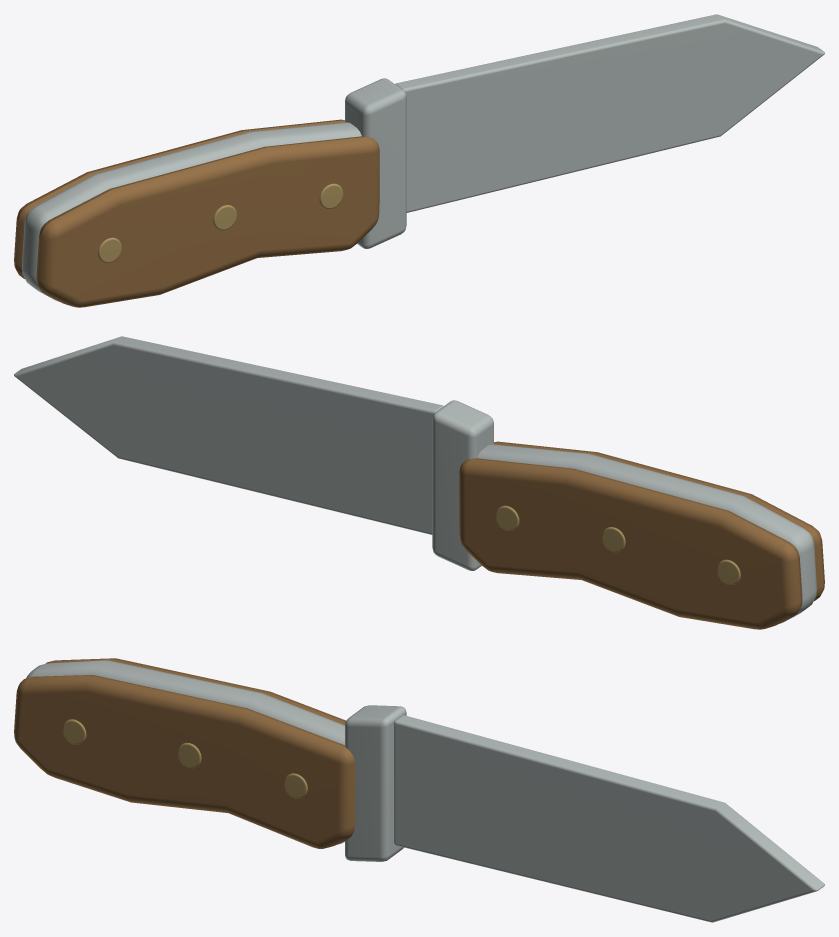
The model's file is steak.glb.
3 views of the same model, one above another, from view 1: azimuth 30°, elevation 25°; view 2: azimuth 150°, elevation 25°; view 3: azimuth 330°, elevation 25° (orthographic).
Parts seen in each view (by area): view 1: Tapered forged steak blade, Curved olivewood handle scale.001, Visible full steel tang, Steel bolster, Curved olivewood handle scale; view 2: Tapered forged steak blade, Curved olivewood handle scale, Visible full steel tang, Steel bolster, Curved olivewood handle scale.001; view 3: Tapered forged steak blade, Curved olivewood handle scale.001, Steel bolster, Visible full steel tang, Curved olivewood handle scale, Brass through rivet.
Boxes of the visible parts, x1=… form: Tapered forged steak blade: x1=395, y1=14, x2=824, y2=212; Curved olivewood handle scale.001: x1=36, y1=136, x2=379, y2=307; Visible full steel tang: x1=22, y1=122, x2=361, y2=301; Steel bolster: x1=345, y1=78, x2=406, y2=248; Curved olivewood handle scale: x1=14, y1=119, x2=344, y2=278; Tapered forged steak blade: x1=14, y1=336, x2=443, y2=534; Curved olivewood handle scale: x1=459, y1=458, x2=802, y2=629; Visible full steel tang: x1=477, y1=444, x2=816, y2=623; Steel bolster: x1=432, y1=400, x2=493, y2=570; Curved olivewood handle scale.001: x1=494, y1=441, x2=824, y2=600; Tapered forged steak blade: x1=394, y1=715, x2=824, y2=922; Curved olivewood handle scale.001: x1=14, y1=675, x2=355, y2=848; Steel bolster: x1=345, y1=705, x2=406, y2=861; Visible full steel tang: x1=26, y1=660, x2=344, y2=844; Curved olivewood handle scale: x1=46, y1=658, x2=345, y2=725; Brass through rivet: x1=62, y1=719, x2=86, y2=744.
Size of the model in its own units: 1.8 by 0.3241 by 0.145.
